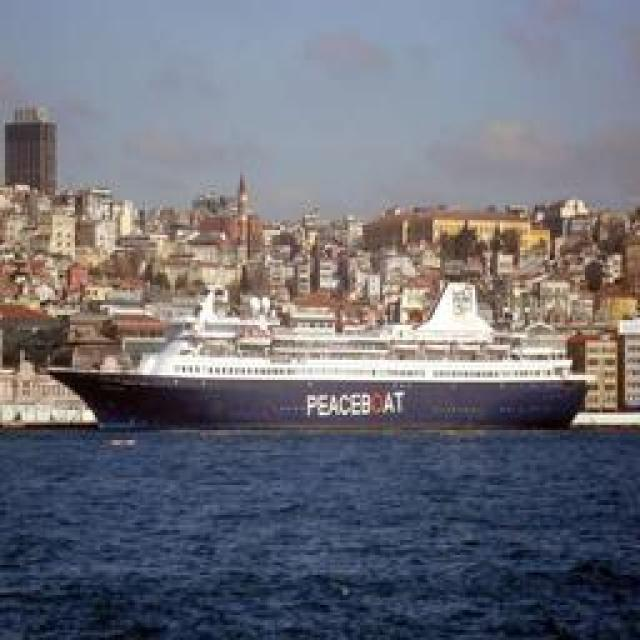ship2: (46, 282, 587, 431)
